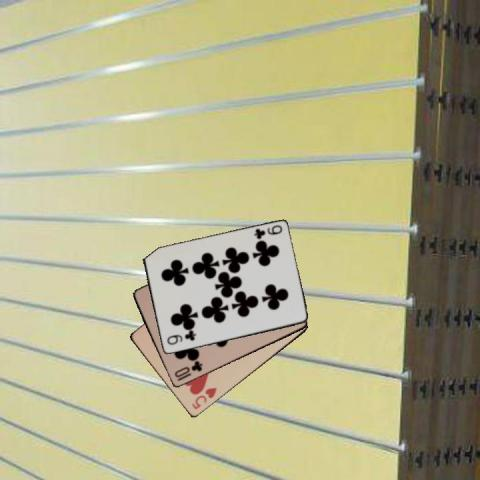10c: (172, 358, 204, 383)
5h: (188, 384, 218, 410)
9c: (251, 222, 283, 241), (164, 329, 197, 347)
